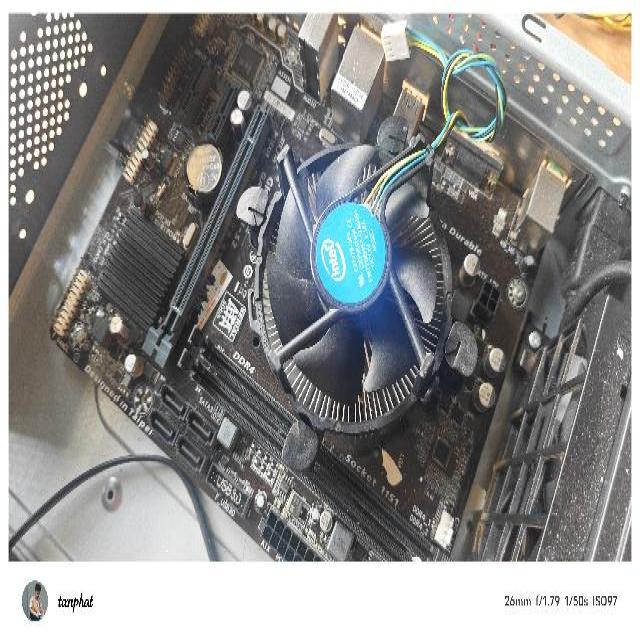CPU_Fan: (234, 106, 479, 474)
Mainboard: (44, 14, 526, 559)
